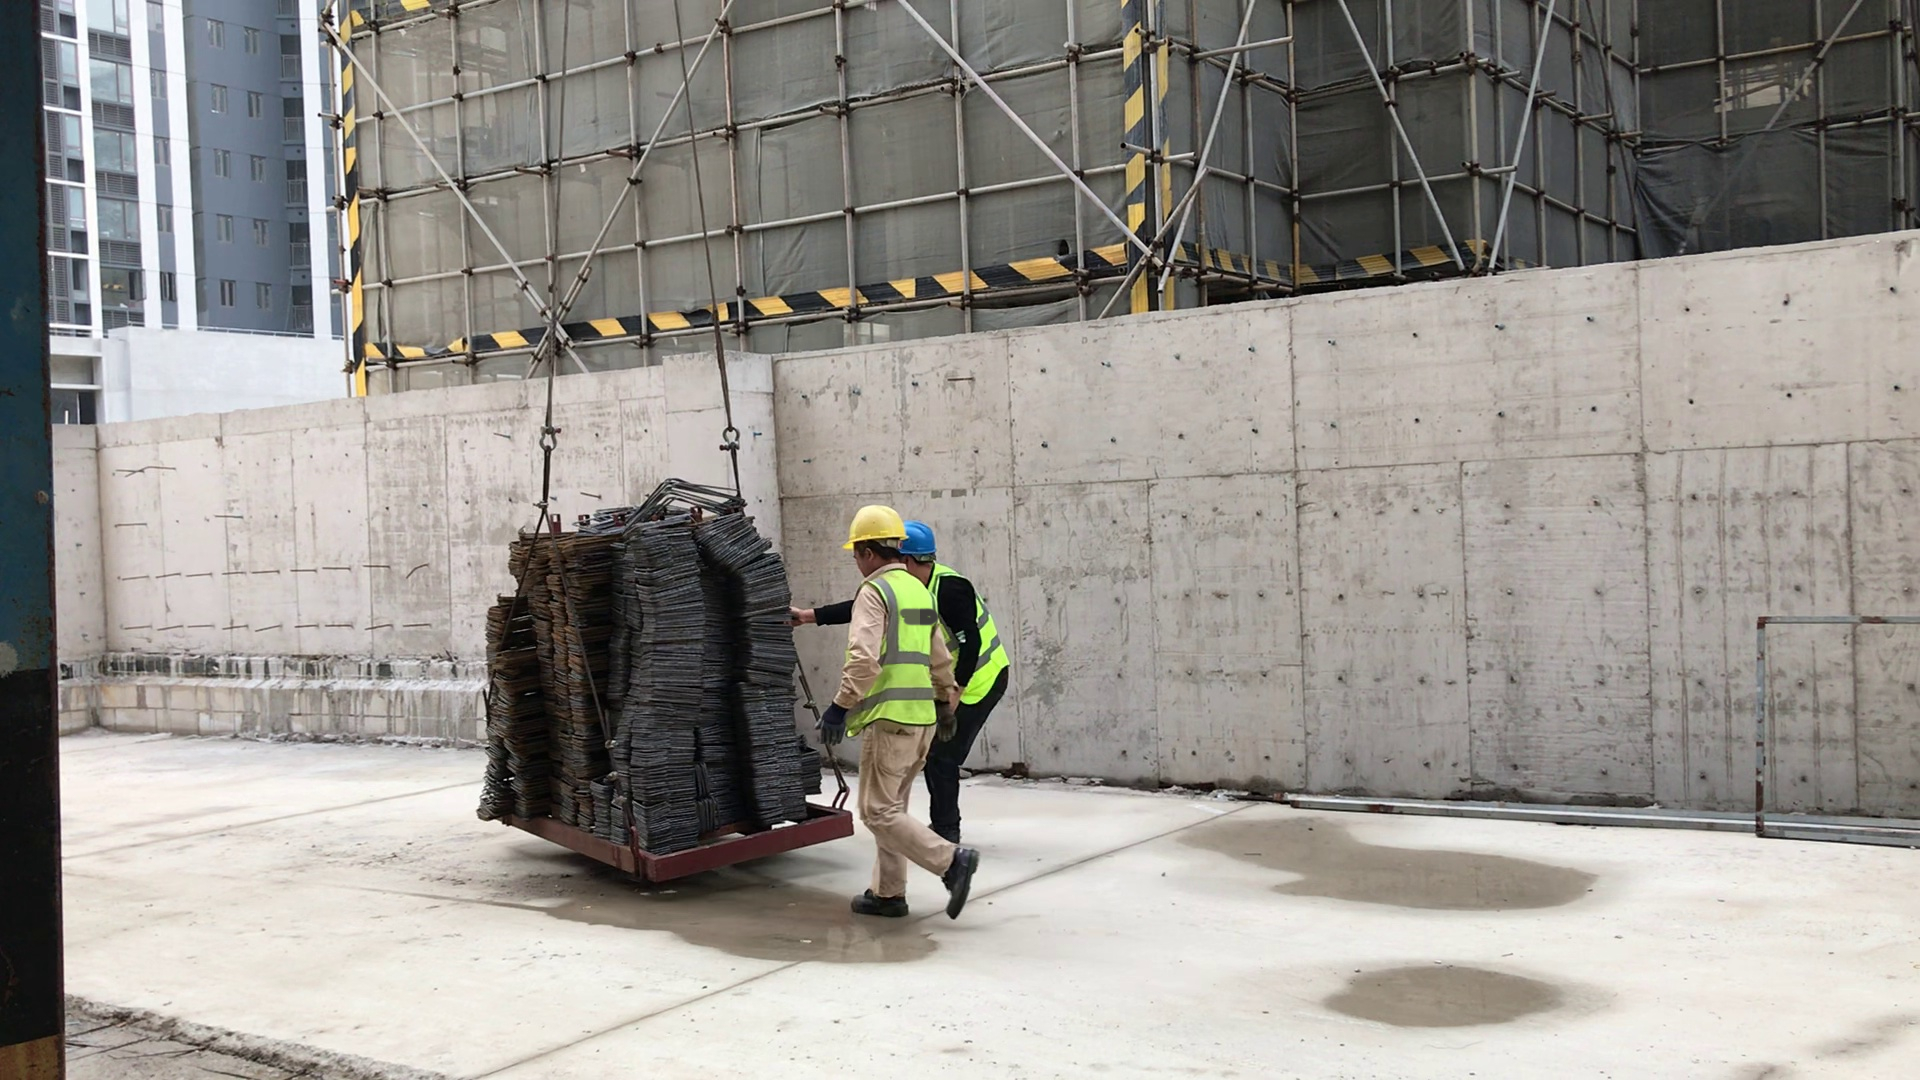helmet: (849, 509, 910, 548), (905, 525, 939, 554)
person: (827, 498, 933, 909), (895, 522, 1000, 849)
vest: (851, 573, 926, 738), (931, 571, 1015, 706)
